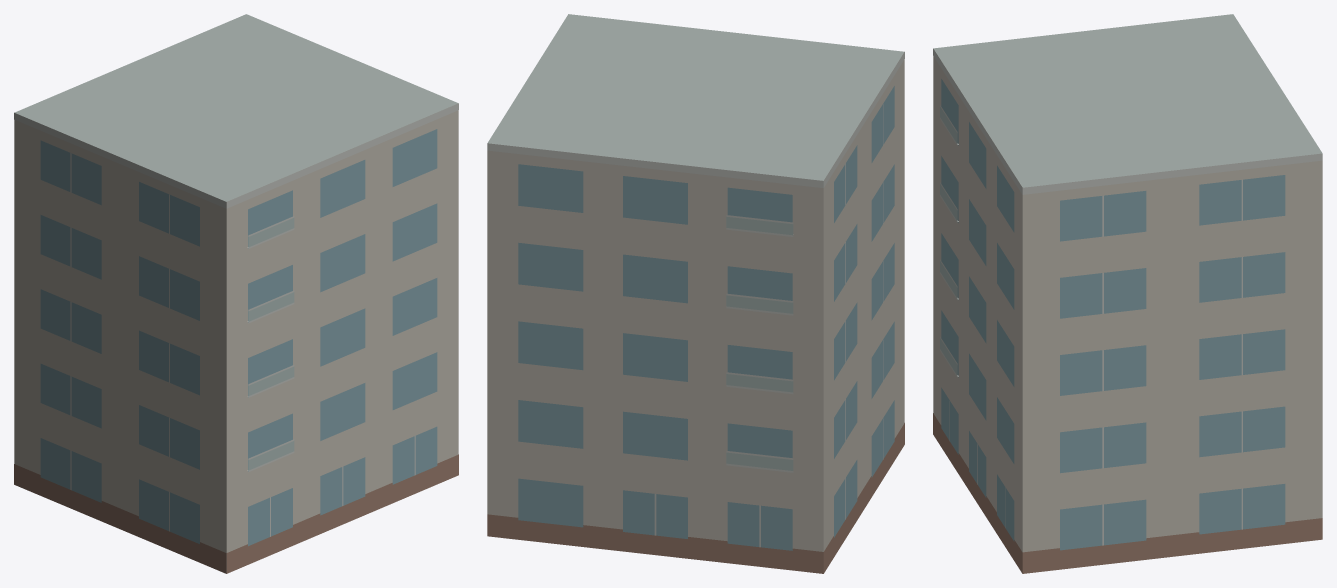
The model's file is survey-upis-32564896.glb.
The picture shows the model from 3 angles, left to right: view 1: azimuth 30°, elevation 25°; view 2: azimuth 150°, elevation 25°; view 3: azimuth 270°, elevation 25°; orthographic projection. The views are drawn at different scales.
Visible parts, largest first — view 1: survey-upis-32564896.tmp; view 2: survey-upis-32564896.tmp; view 3: survey-upis-32564896.tmp.
Boxes of the visible parts, bbox=[...] form: survey-upis-32564896.tmp: bbox=[14, 14, 458, 573]; survey-upis-32564896.tmp: bbox=[487, 14, 904, 573]; survey-upis-32564896.tmp: bbox=[933, 14, 1322, 573].
Size of the model in its own units: 12.75 by 13.2 by 12.08.
